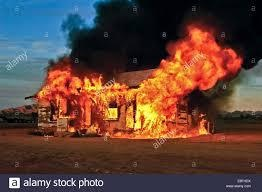fire: (45, 23, 246, 149)
